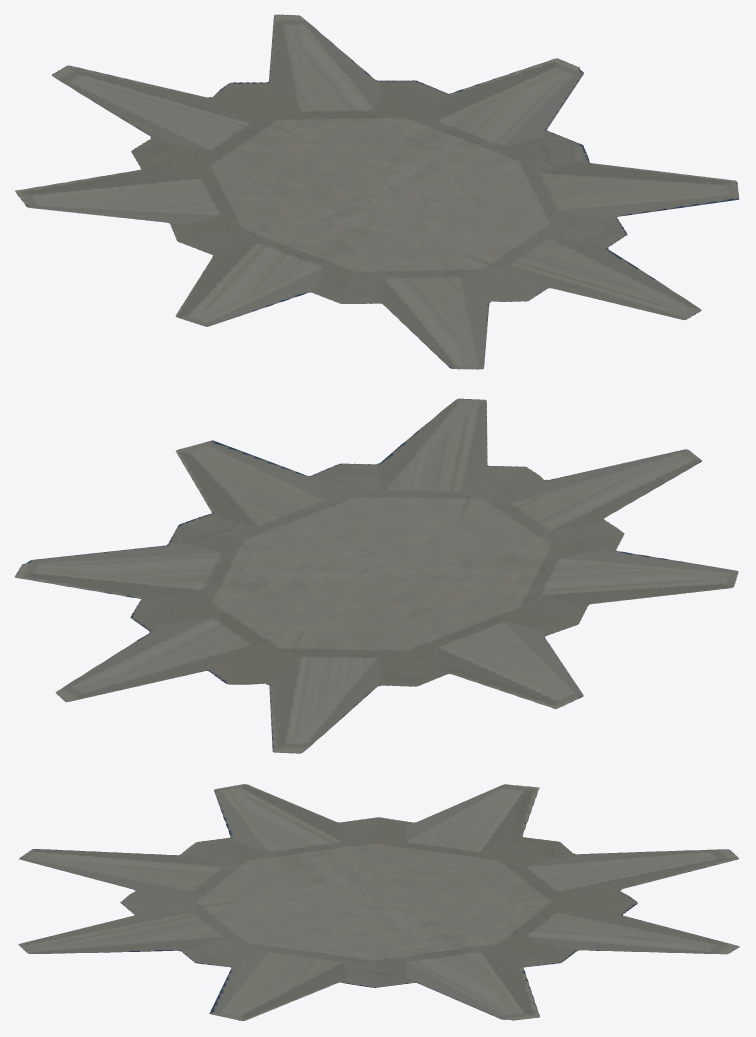
Rendered from IconoPiedraMapa.fbx.
3 renders of one model, top to bottom at view 1: azimuth 30°, elevation 25°; view 2: azimuth 150°, elevation 25°; view 3: azimuth 270°, elevation 25°, orthographic. The views are drawn at different scales.
Visible parts, largest first — view 1: Plane; view 2: Plane; view 3: Plane.
Part boxes in pixels (bbox=[...]): Plane: bbox=[15, 14, 739, 369]; Plane: bbox=[14, 398, 738, 753]; Plane: bbox=[18, 784, 739, 1020].
Bounding box in the file's own units: 168 × 3.51e-05 × 215.
